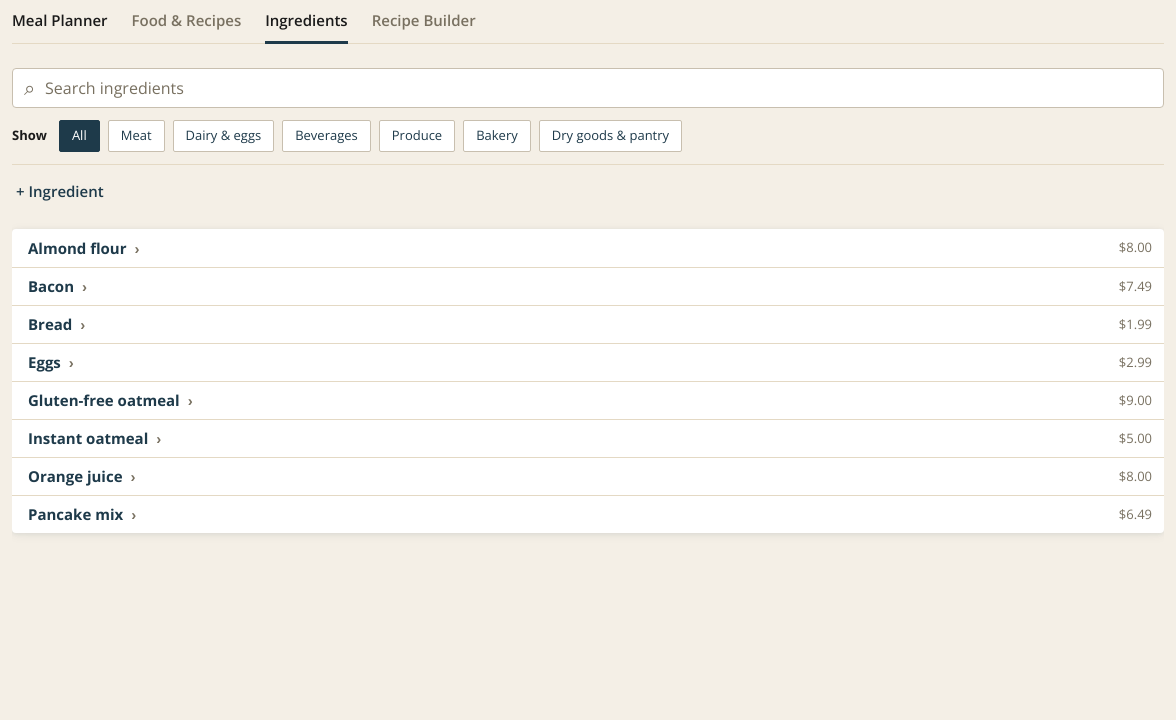
Test case: MenuMonsterShelfTool hub, tabs › IngredientsTab_NarrowsBySection_WhenAFilterIsPressed
Click the button "Bakery" at [497, 136], box [463,120,531,152]
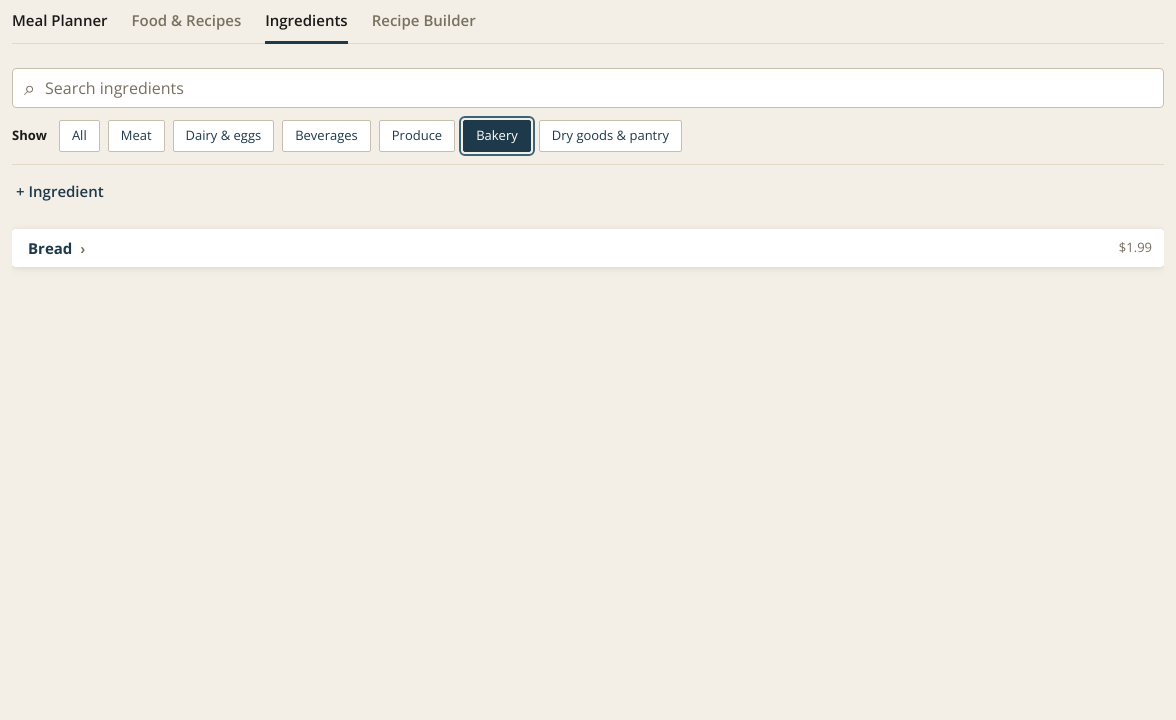
Expected: the button "Bacon" is gone
